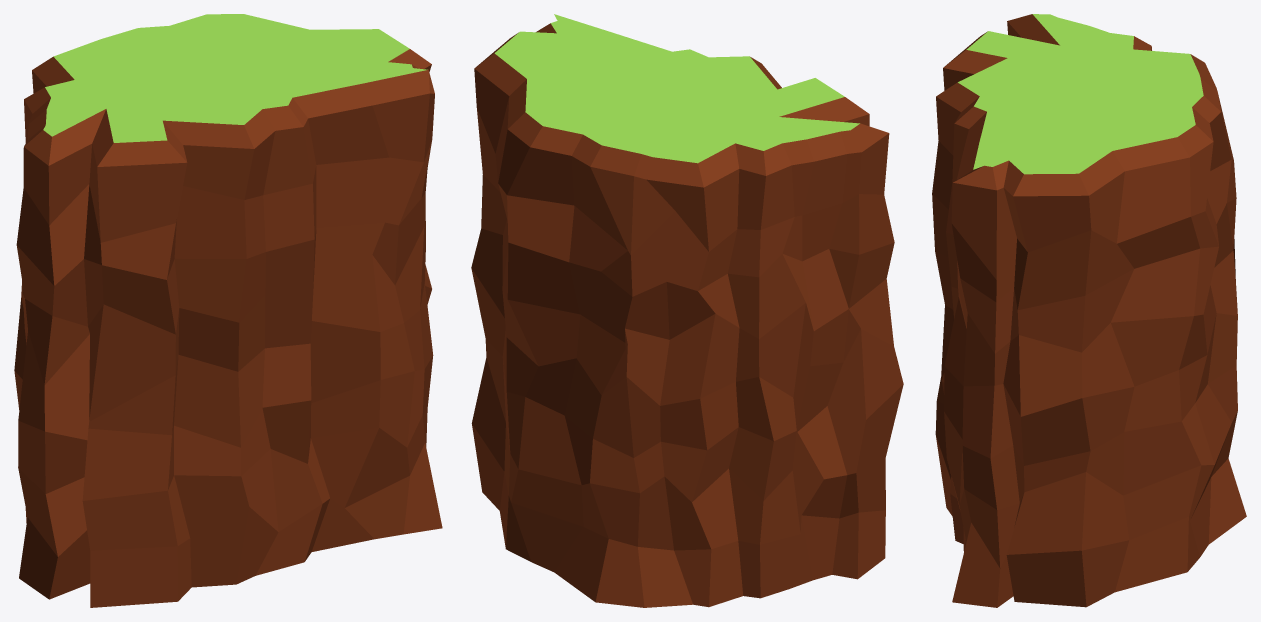
The model's file is Mountan_One.fbx.
3 renders of one model, left to right at view 1: azimuth 30°, elevation 25°; view 2: azimuth 150°, elevation 25°; view 3: azimuth 270°, elevation 25°, orthographic. The views are drawn at different scales.
Visible parts, largest first — view 1: Plane; view 2: Plane; view 3: Plane.
Part boxes in pixels (bbox=[...]): Plane: bbox=[14, 14, 442, 607]; Plane: bbox=[471, 14, 903, 607]; Plane: bbox=[932, 14, 1246, 607].
Bounding box in the file's own units: 1877 × 2047 × 1340.
